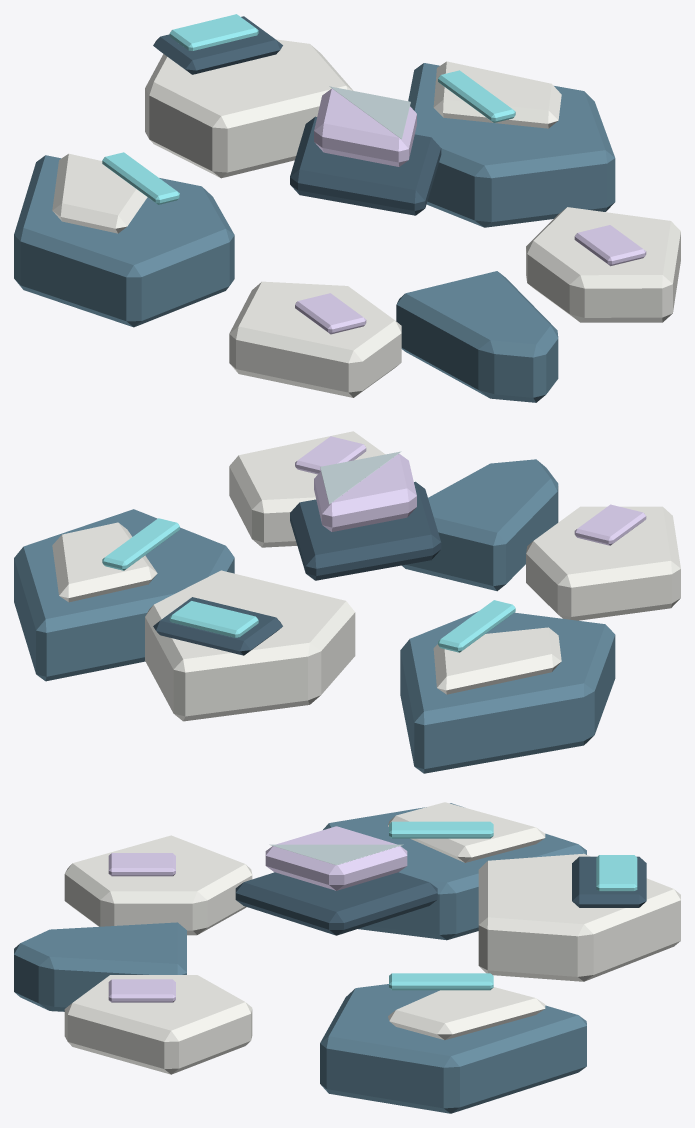
Rendered from pulse.glb.
3 renders of one model, top to bottom at view 1: azimuth 30°, elevation 25°; view 2: azimuth 150°, elevation 25°; view 3: azimuth 270°, elevation 25°, orthographic. The views are drawn at different scales.
Visible parts, largest first — view 1: FloatingLensWing, FloatingLensWing.001, DetachedShortEmitter, SeparateAftKeel, DetachedAftGuard, DetachedAftGuard.001, CoreDarkBacking, LensWingArmor, SuspendedPhaseCore, LensWingArmor.001, PulseAperture, PulseLens (+5 smaller); view 2: FloatingLensWing, DetachedShortEmitter, FloatingLensWing.001, DetachedAftGuard, SeparateAftKeel, CoreDarkBacking, DetachedAftGuard.001, LensWingArmor, LensWingArmor.001, SuspendedPhaseCore, PulseAperture, PulseLens (+5 smaller); view 3: FloatingLensWing.001, DetachedShortEmitter, DetachedAftGuard.001, DetachedAftGuard, SeparateAftKeel, FloatingLensWing, CoreDarkBacking, LensWingArmor.001, SuspendedPhaseCore, LensWingArmor, PulseAperture, PulseTrack (+5 smaller).
Part boxes in pixels (<box>): FloatingLensWing: <box>14,155,234,327</box>; FloatingLensWing.001: <box>408,63,615,227</box>; DetachedShortEmitter: <box>145,39,353,178</box>; SeparateAftKeel: <box>396,271,558,402</box>; DetachedAftGuard: <box>229,281,401,397</box>; DetachedAftGuard.001: <box>526,207,680,322</box>; CoreDarkBacking: <box>290,116,441,215</box>; LensWingArmor: <box>52,153,147,233</box>; SuspendedPhaseCore: <box>314,88,416,166</box>; LensWingArmor.001: <box>433,61,561,128</box>; PulseAperture: <box>153,16,282,74</box>; PulseLens: <box>169,14,258,50</box>; FloatingLensWing: <box>400,611,615,773</box>; DetachedShortEmitter: <box>145,570,355,721</box>; FloatingLensWing.001: <box>14,509,234,681</box>; DetachedAftGuard: <box>526,506,680,620</box>; SeparateAftKeel: <box>402,459,558,591</box>; CoreDarkBacking: <box>290,481,441,580</box>; DetachedAftGuard.001: <box>229,431,385,547</box>; LensWingArmor: <box>433,627,561,694</box>; LensWingArmor.001: <box>52,522,157,602</box>; SuspendedPhaseCore: <box>314,453,416,531</box>; PulseAperture: <box>153,597,282,655</box>; PulseLens: <box>169,601,258,637</box>; FloatingLensWing.001: <box>320,984,586,1113</box>; DetachedShortEmitter: <box>478,853,680,981</box>; DetachedAftGuard.001: <box>64,975,252,1074</box>; DetachedAftGuard: <box>64,835,252,935</box>; SeparateAftKeel: <box>14,922,186,1011</box>; FloatingLensWing: <box>323,803,586,940</box>; CoreDarkBacking: <box>235,872,437,935</box>; LensWingArmor.001: <box>388,987,545,1039</box>; SuspendedPhaseCore: <box>265,826,407,890</box>; LensWingArmor: <box>388,802,545,862</box>; PulseAperture: <box>572,856,646,907</box>; PulseTrack: <box>389,821,493,838</box>.
Size of the model in its own units: 1.64 by 0.451 by 1.78.
